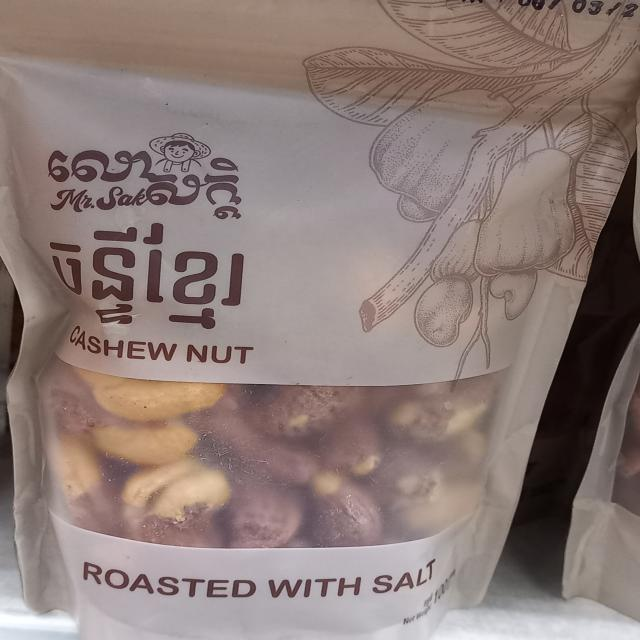Yolov11_80vkh: (42, 221, 250, 332), (46, 142, 248, 221)
